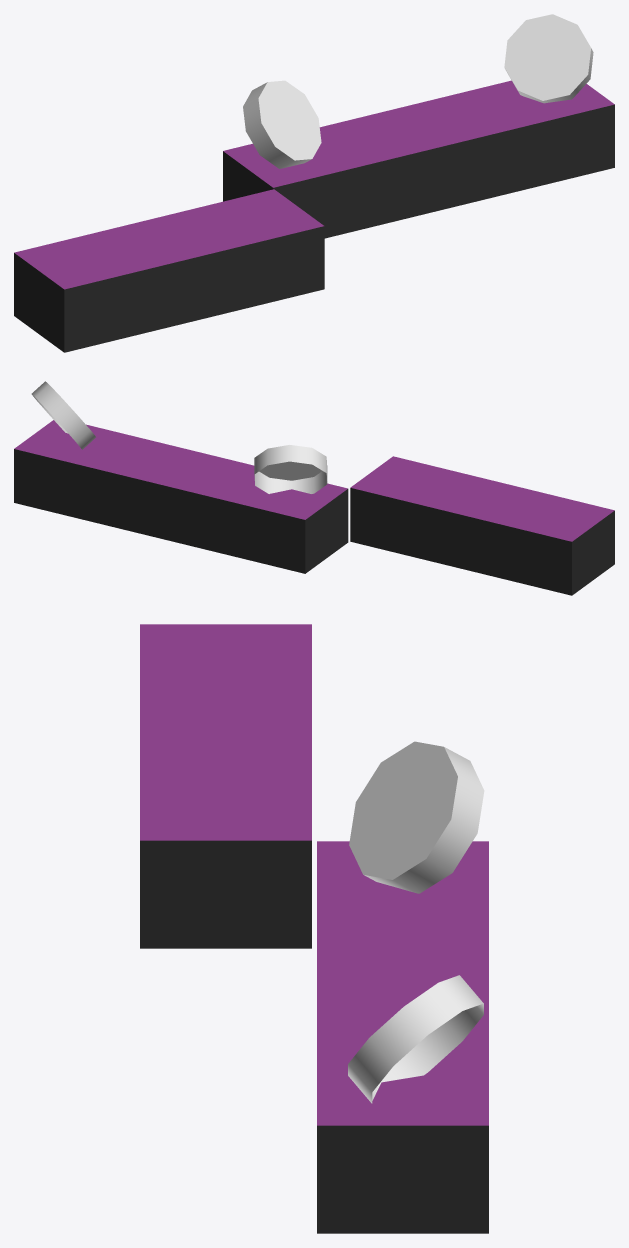
File: sofa couloir1.FBX
3 views of the same model, one above another, from view 1: azimuth 30°, elevation 25°; view 2: azimuth 150°, elevation 25°; view 3: azimuth 270°, elevation 25° (orthographic). The views are drawn at different scales.
Visible parts, largest first — view 1: banquet rangement couloir001, coussin003, coussin004; view 2: banquet rangement couloir001, coussin004, coussin003; view 3: banquet rangement couloir001, coussin004, coussin003.
Part boxes in pixels (x1,y1,x2,y2): banquet rangement couloir001: (14, 80, 614, 352); coussin003: (504, 14, 593, 103); coussin004: (243, 80, 321, 168); banquet rangement couloir001: (14, 420, 614, 595); coussin004: (254, 445, 327, 493); coussin003: (31, 381, 95, 449); banquet rangement couloir001: (140, 624, 488, 1233); coussin004: (349, 741, 484, 893); coussin003: (348, 975, 483, 1103).
Bounding box in the file's own units: 416 × 88.4 × 122.
